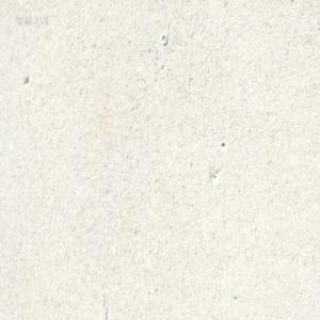Washertrack_idkeyframe: (160, 33, 167, 45)
